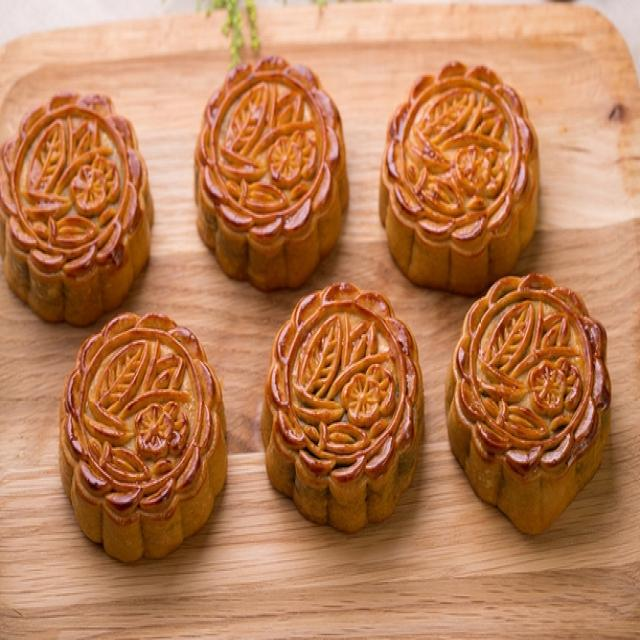蛋糕甜品: (15, 73, 608, 564)
